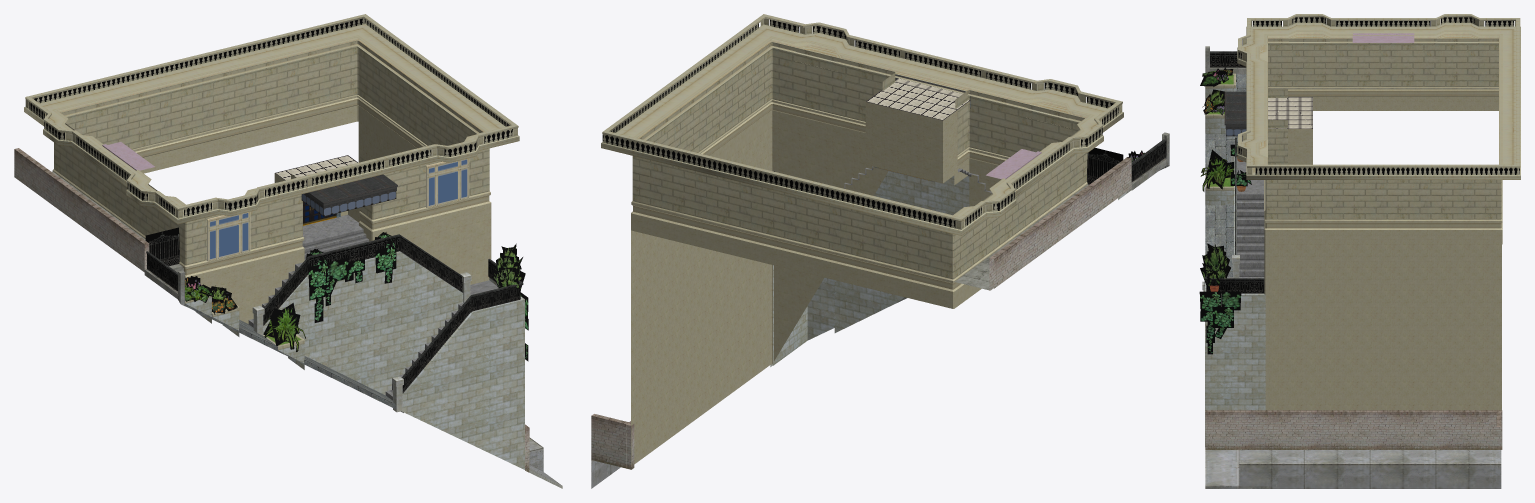
File: BuildingA_Base-35.obj
3 renders of one model, left to right at view 1: azimuth 30°, elevation 25°; view 2: azimuth 150°, elevation 25°; view 3: azimuth 270°, elevation 25°, orthographic. The views are drawn at different scales.
Visible parts, largest first — view 1: ct2_01_m1_tk1_builbaseA3L_21; view 2: ct2_01_m1_tk1_builbaseA3L_21; view 3: ct2_01_m1_tk1_builbaseA3L_21.
Part boxes in pixels (x1=…): ct2_01_m1_tk1_builbaseA3L_21: x1=14, y1=14, x2=562, y2=488; ct2_01_m1_tk1_builbaseA3L_21: x1=591, y1=14, x2=1169, y2=488; ct2_01_m1_tk1_builbaseA3L_21: x1=1199, y1=14, x2=1520, y2=488.
Size of the model in its own units: 28.86 by 25.33 by 23.63.
